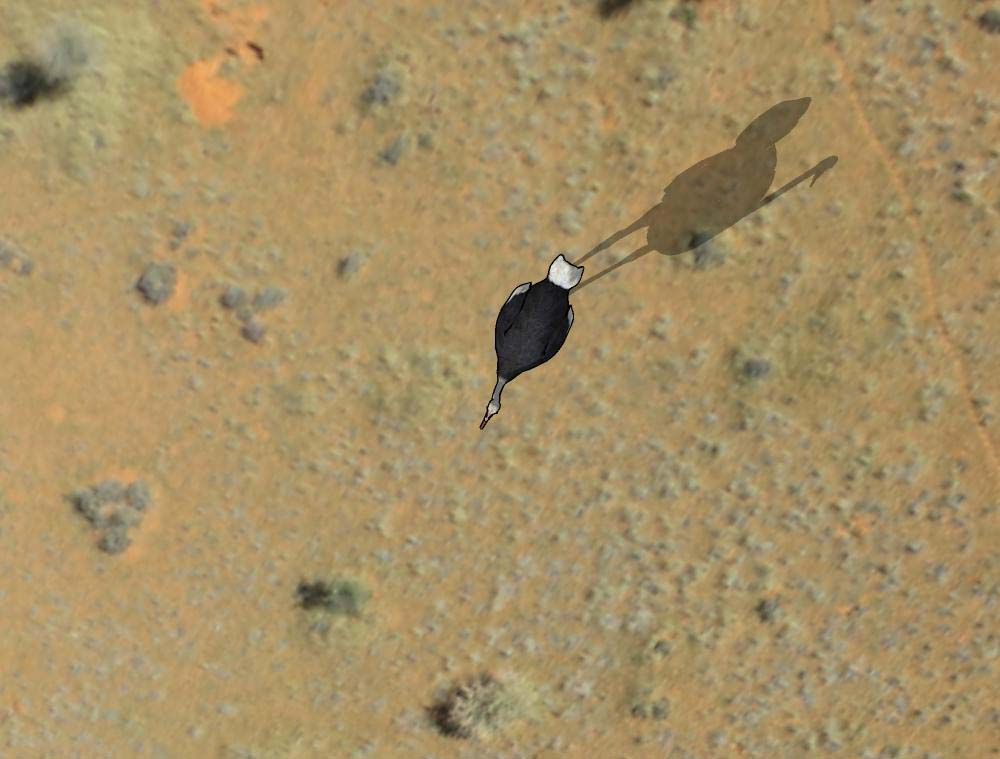ostrich: (472, 247, 590, 431)
